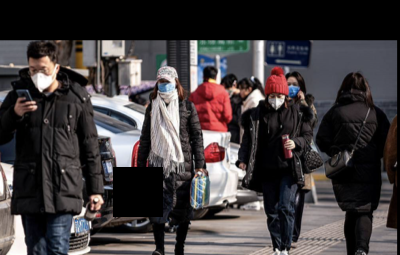with_mask: (29, 64, 56, 94), (269, 93, 285, 110), (287, 80, 301, 98), (158, 80, 176, 93)
